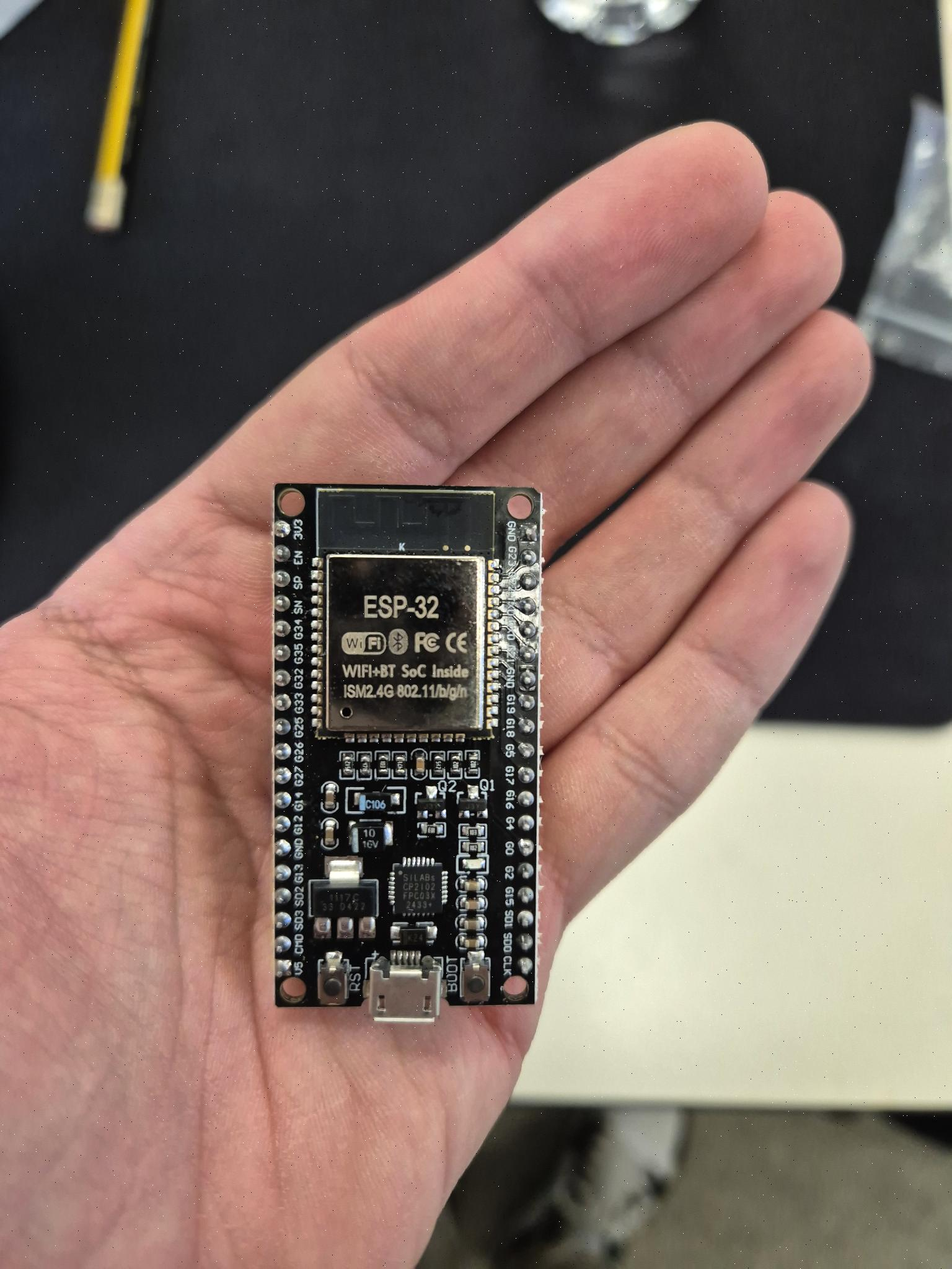esp32-dev: (268, 477, 546, 1012)
